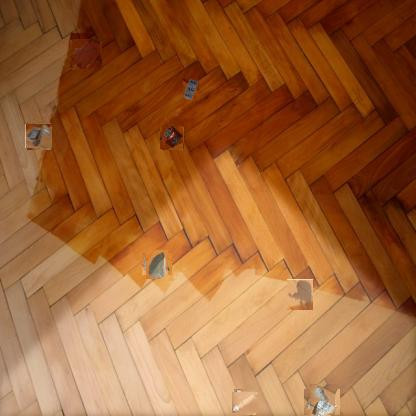dirty: (306, 386, 337, 416), (144, 251, 170, 277), (26, 124, 52, 149), (233, 390, 257, 414), (161, 126, 184, 150), (183, 78, 199, 100)
liquid: (71, 39, 101, 69), (287, 279, 313, 310)
